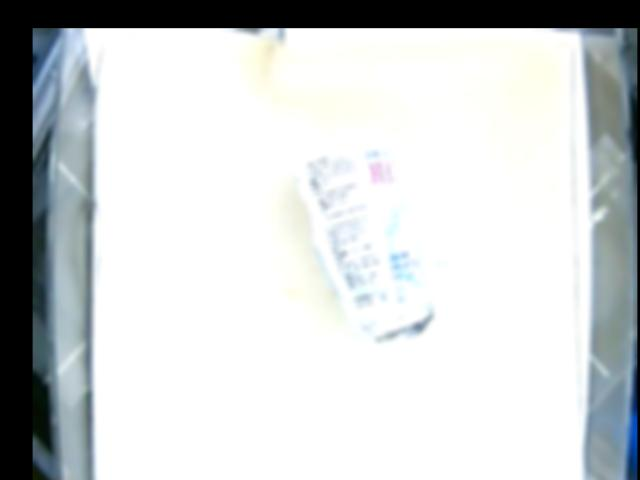Bottle: (295, 129, 434, 343)
